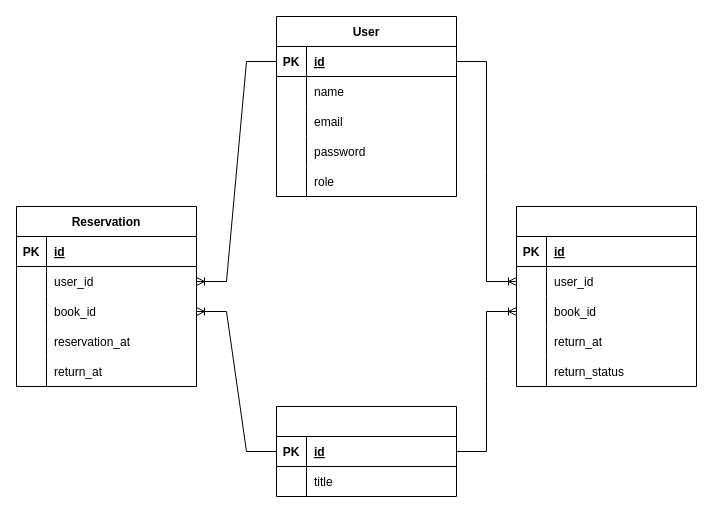
Image size: 713x513. Some labels were removed from this diagram. The box of each missing label's shape, as (x1, y1, x2, y2) in pixels:
Book: (276, 406, 456, 496)
Lending: (516, 206, 696, 386)
